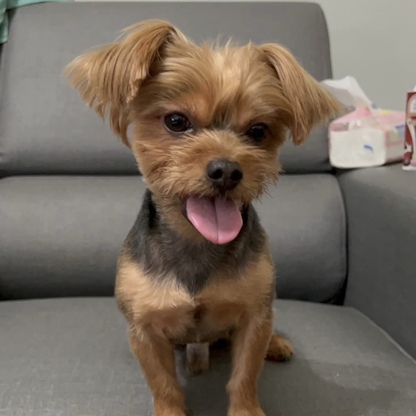yorkshire: (67, 18, 338, 416)
